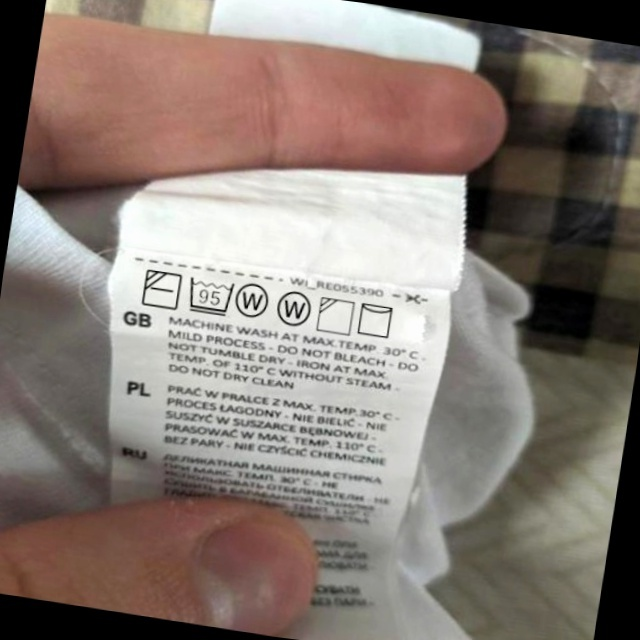95C: (184, 273, 237, 318)
dry_flat_in_shade: (139, 265, 184, 313)
line_dry: (354, 298, 399, 342)
shade_dry: (314, 294, 358, 338)
wet_clean: (273, 287, 315, 332), (233, 277, 274, 322)
